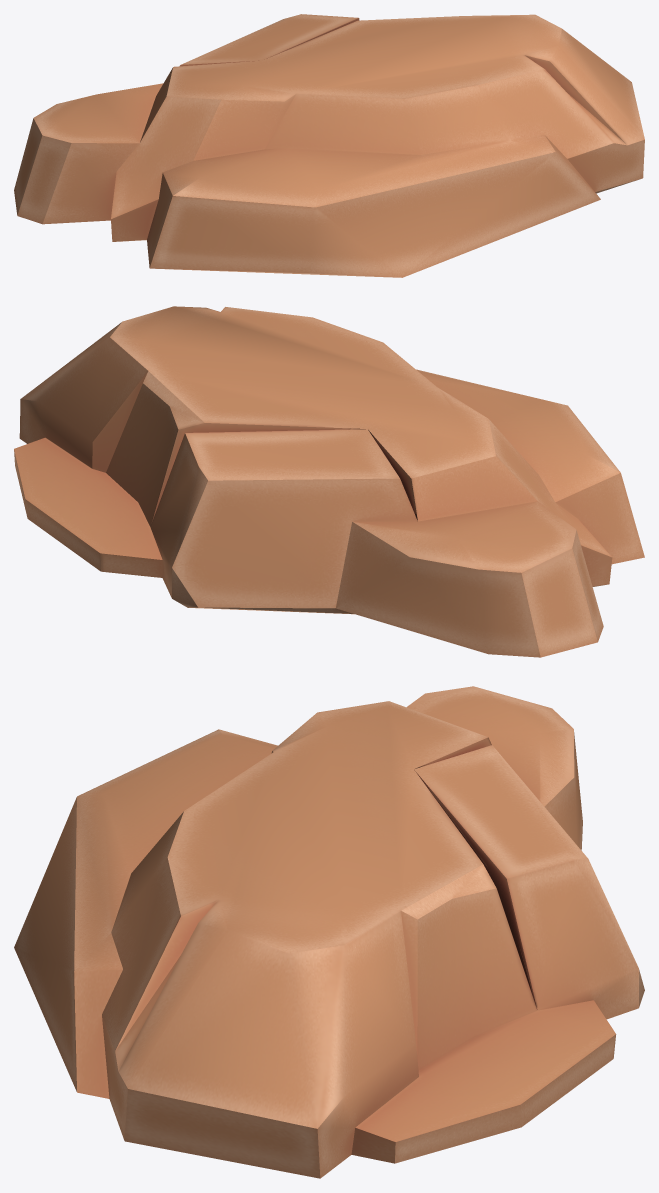
Rendered from Roca_ZonaAviador_2.fbx.
The picture shows the model from 3 angles, top to bottom: view 1: azimuth 30°, elevation 25°; view 2: azimuth 150°, elevation 25°; view 3: azimuth 270°, elevation 25°; orthographic projection. The views are drawn at different scales.
Parts seen in each view (by area): view 1: Rock_4.001; view 2: Rock_4.001; view 3: Rock_4.001.
Part boxes in pixels (x1,y1,x2,y2): Rock_4.001: (14, 14, 644, 277); Rock_4.001: (14, 306, 644, 657); Rock_4.001: (14, 686, 644, 1178).
Bounding box in the file's own units: 749 × 163 × 496.
